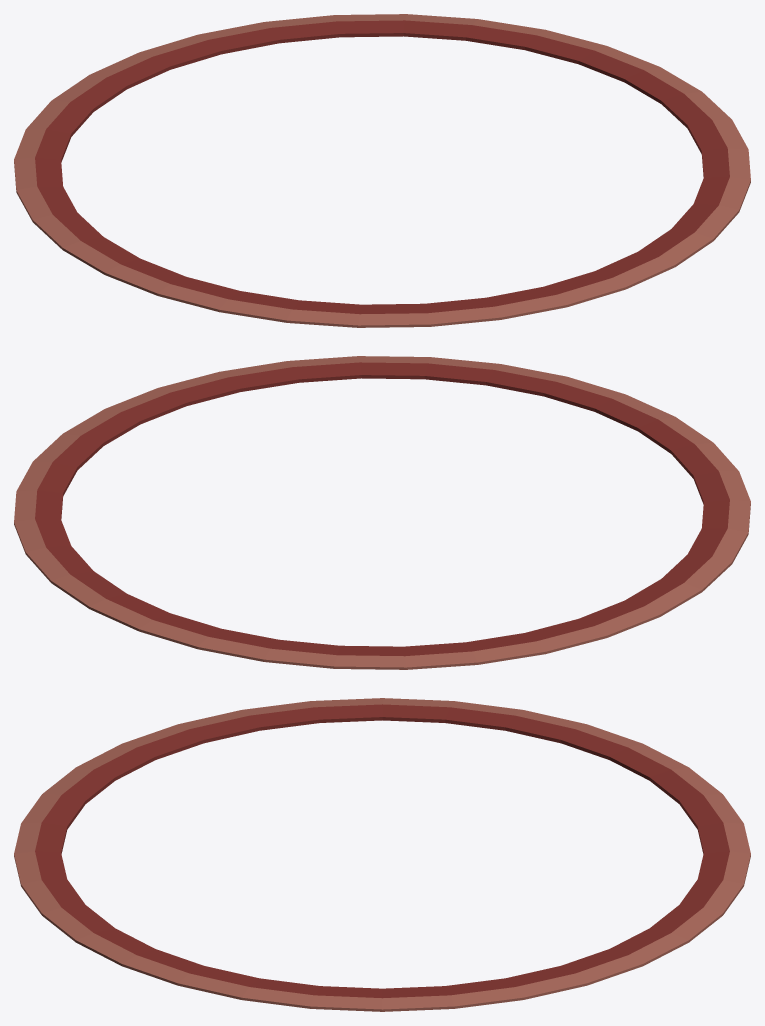
The model's file is Gas_Giant_05_Ring_02_LOD1.fbx.
The picture shows the model from 3 angles, top to bottom: view 1: azimuth 30°, elevation 25°; view 2: azimuth 150°, elevation 25°; view 3: azimuth 270°, elevation 25°; orthographic projection.
Visible parts, largest first — view 1: Gas_Giant_05_Ring_02_LOD1; view 2: Gas_Giant_05_Ring_02_LOD1; view 3: Gas_Giant_05_Ring_02_LOD1.
Boxes of the visible parts, left/top/right/bottom form: Gas_Giant_05_Ring_02_LOD1: left=14, top=14, right=750, bottom=327; Gas_Giant_05_Ring_02_LOD1: left=14, top=356, right=750, bottom=669; Gas_Giant_05_Ring_02_LOD1: left=14, top=698, right=750, bottom=1011.
Bounding box in the file's own units: 34876 × 383 × 34876.
